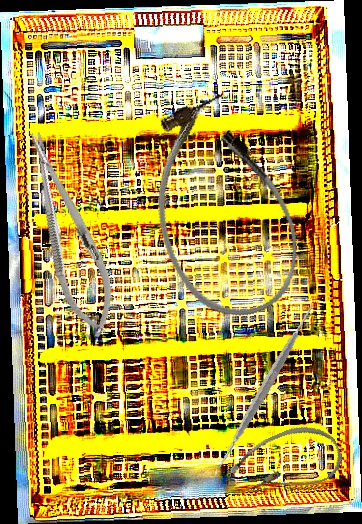Cannula: (127, 84, 316, 334), (222, 414, 349, 514)
Needle Holder: (11, 123, 128, 345)
Spatula Surgical: (181, 301, 350, 472)
